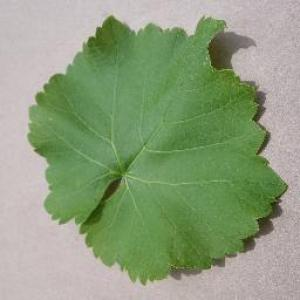Folha: (26, 13, 288, 285)
